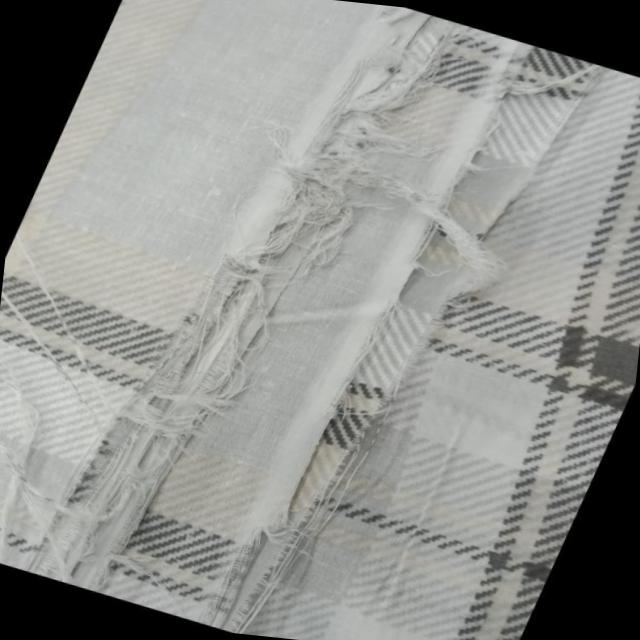cut: (3, 0, 599, 640)
